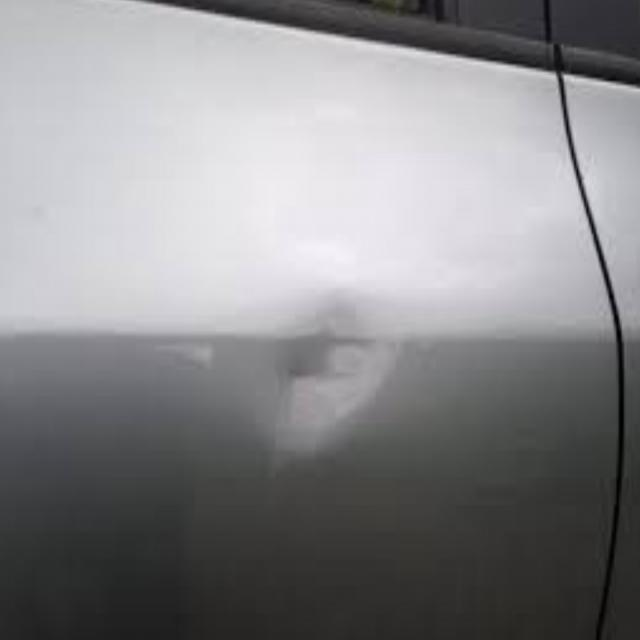dents: (234, 298, 428, 467)
